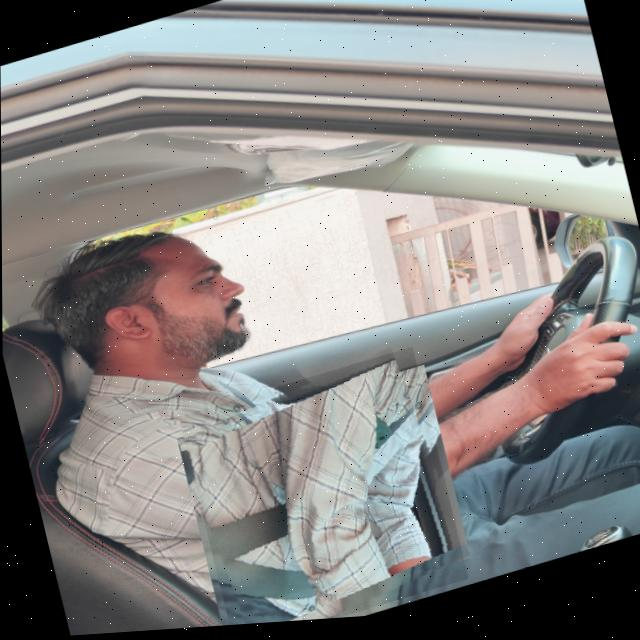seatbelt: (177, 349, 467, 631)
